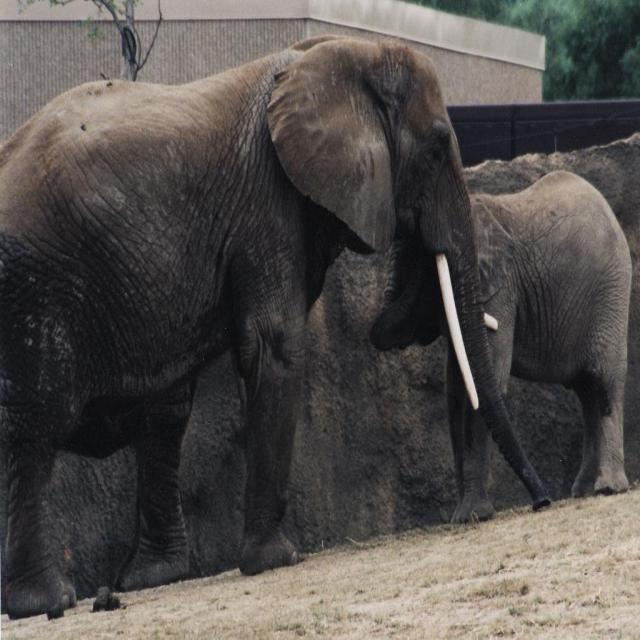elephant: (1, 30, 556, 623), (379, 133, 640, 516)
